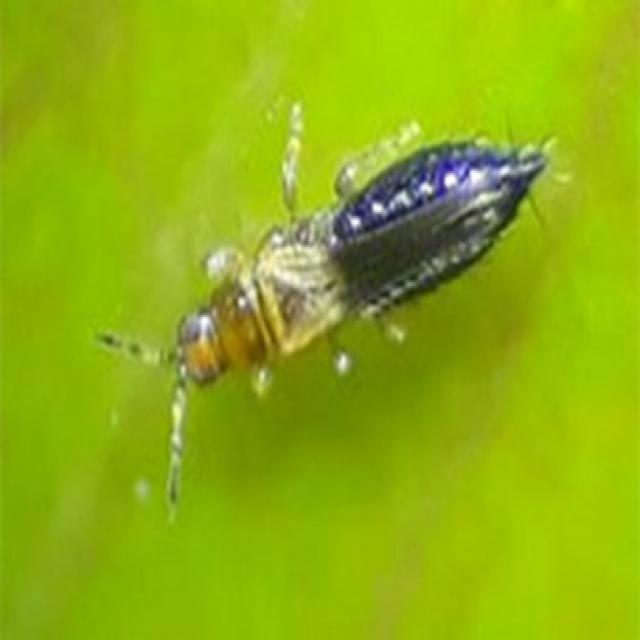Thrip-Adult-: (46, 86, 594, 536)
